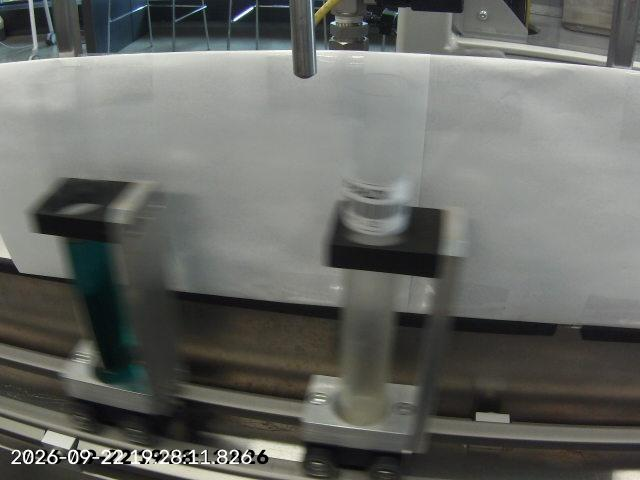vial: (28, 53, 182, 420), (323, 65, 411, 429)
